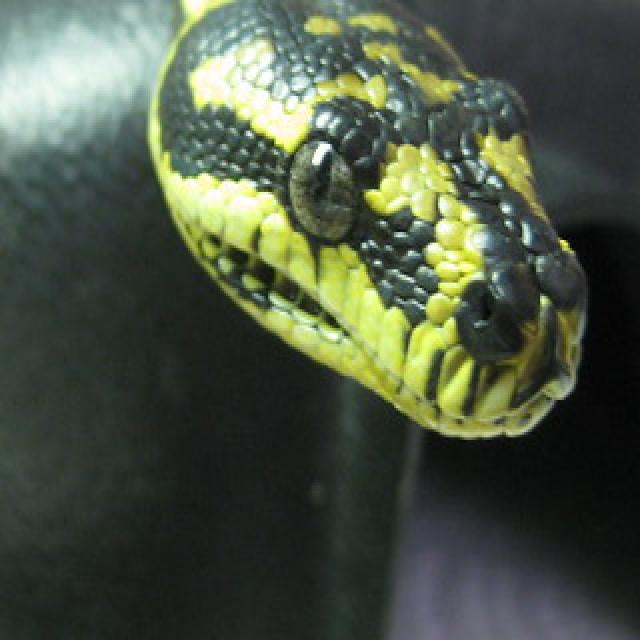snake: (0, 0, 608, 427)
